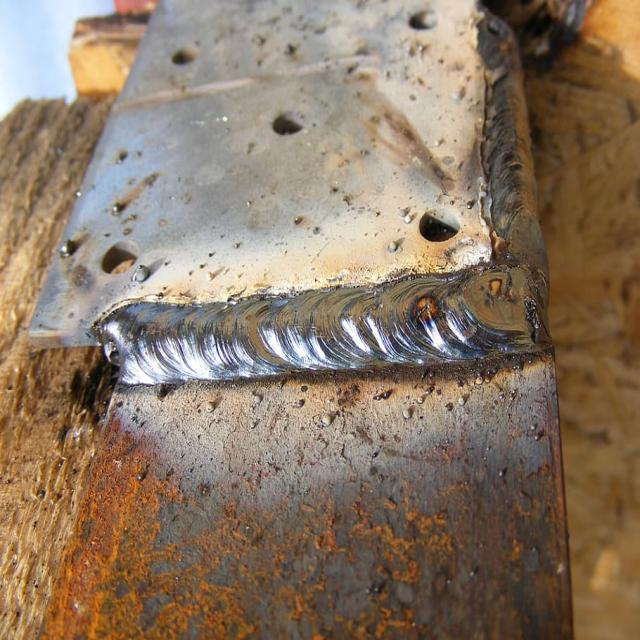Good Welding: (95, 13, 549, 386)
